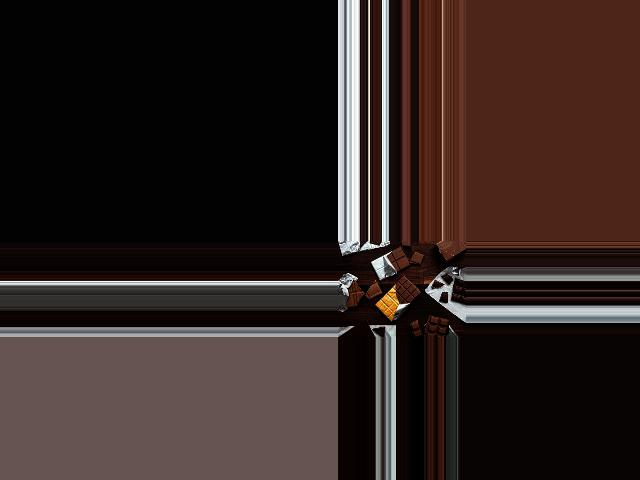chocolate: (373, 243, 409, 281)
